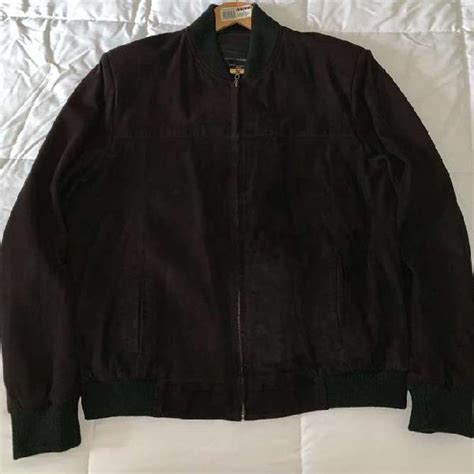gamuza: (1, 5, 474, 460)
